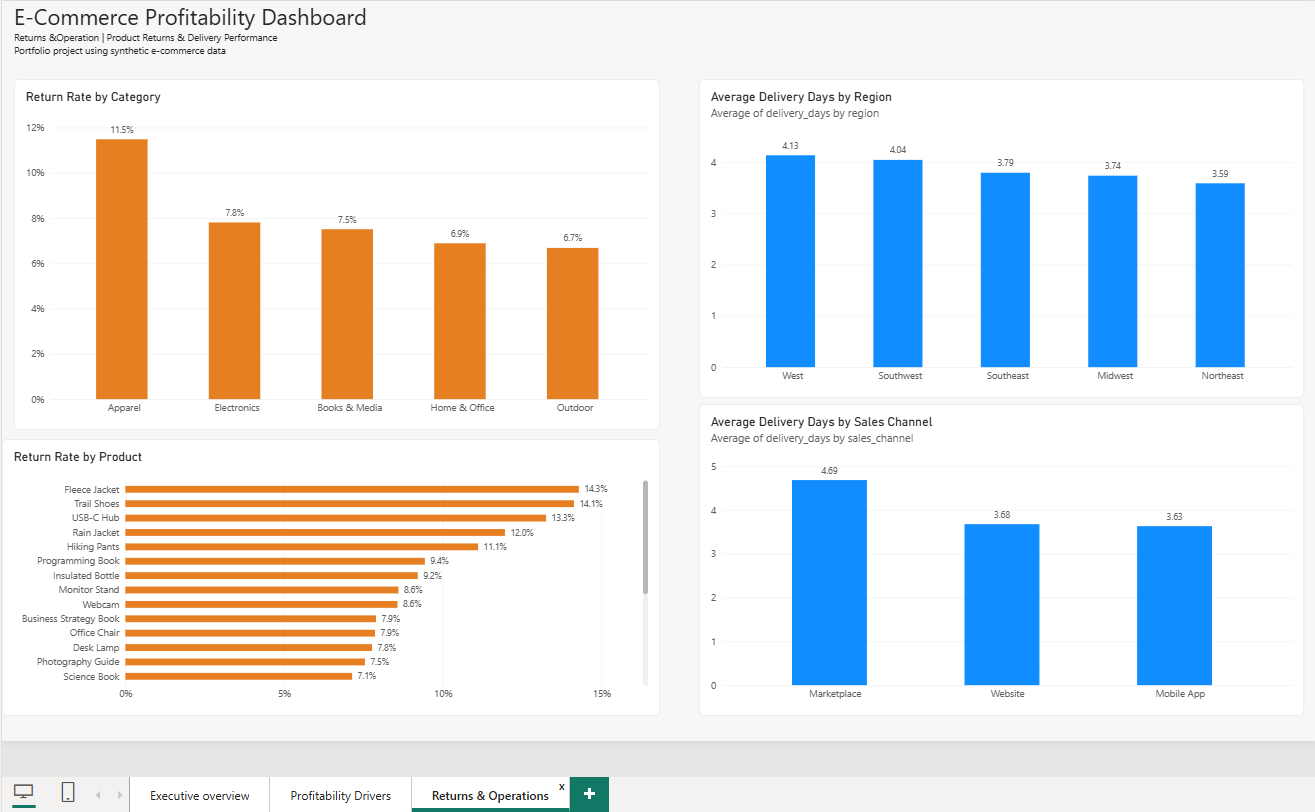

The page's visual inventory and layout, read from the dashboard file:
{"tool":"powerbi","page":{"name":"Returns & Operations","canvas":[1920,1080],"ordinal":2},"visuals":[{"type":"clusteredColumnChart","title":"Return Rate by Category","fields":{"Category":["Ecommerce.category"],"Y":["Ecommerce.Return Rate"]},"box":[17.5,113.8,942.5,512.1],"z":0},{"type":"clusteredBarChart","title":"Return Rate by Product","fields":{"Category":["Ecommerce.product"],"Y":["Ecommerce.Return Rate"]},"box":[0,639,960,404.1],"z":1000},{"type":"clusteredColumnChart","title":"Average Delivery Days by Region","fields":{"Category":["Ecommerce.region"],"Y":["Avg(Ecommerce.delivery_days)"]},"box":[1016.9,113.8,882.7,465.4],"z":2000},{"type":"clusteredColumnChart","title":"Average Delivery Days by Sales Channel","fields":{"Category":["Ecommerce.sales_channel"],"Y":["Avg(Ecommerce.delivery_days)"]},"box":[1016.9,588,882.7,455.2],"z":3000},{"type":"textbox","box":[17.5,0,563.2,93.4],"z":3001}]}

Visuals, with their boxes on the page's 1920x1080 design canvas (x1, y1, x2, y2). These are canvas units, not pixel positions in the 1315x812 screenshot, which may show the page scaled, cropped or inside an application window:
"Return Rate by Category" clusteredColumnChart: x1=18, y1=114, x2=960, y2=626
"Return Rate by Product" clusteredBarChart: x1=0, y1=639, x2=960, y2=1043
"Average Delivery Days by Region" clusteredColumnChart: x1=1017, y1=114, x2=1900, y2=579
"Average Delivery Days by Sales Channel" clusteredColumnChart: x1=1017, y1=588, x2=1900, y2=1043
textbox: x1=18, y1=0, x2=581, y2=93
